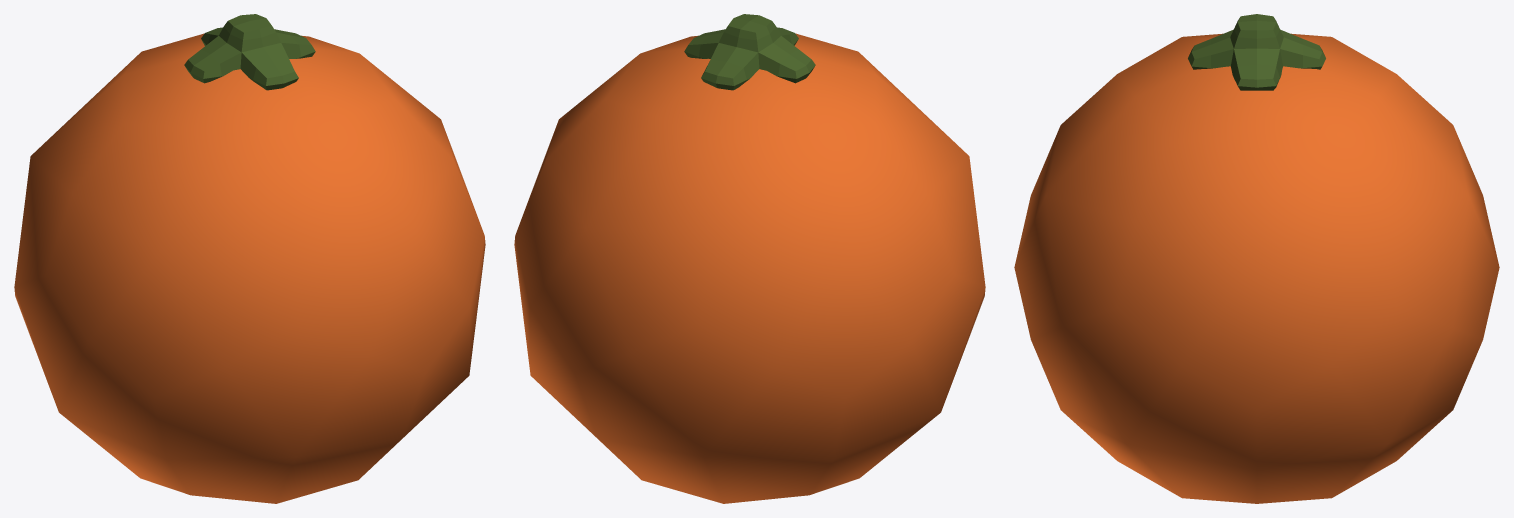
Rendered from Orange.glb.
3 renders of one model, left to right at view 1: azimuth 30°, elevation 25°; view 2: azimuth 150°, elevation 25°; view 3: azimuth 270°, elevation 25°, orthographic.
Parts seen in each view (by area): view 1: Orange.001; view 2: Orange.001; view 3: Orange.001.
Boxes of the visible parts, left/top/right/bottom form: Orange.001: left=14, top=14, right=485, bottom=503; Orange.001: left=514, top=14, right=985, bottom=503; Orange.001: left=1014, top=14, right=1499, bottom=503.
Bounding box in the file's own units: 0.103 × 0.1128 × 0.1051.
